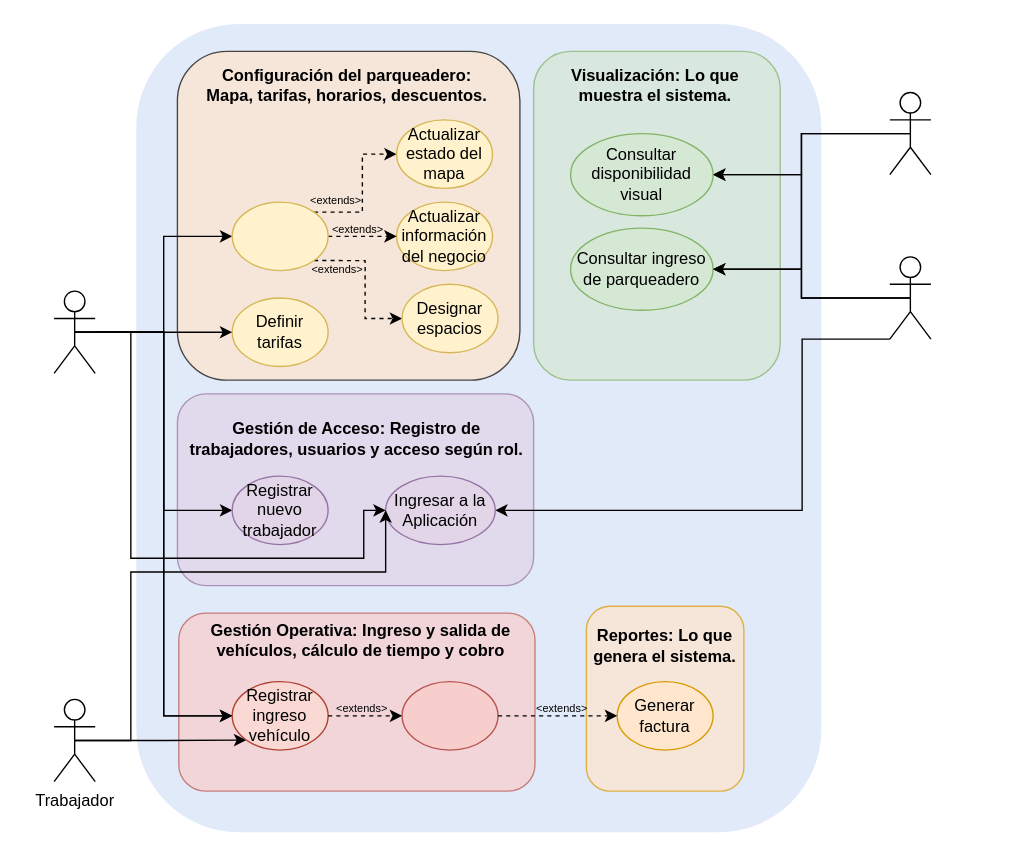
Image size: 1014x855. Some labels were removed from this diagram. The shapes that lost their labels are listed below. From the top down, each one's centre as x and y in pixels, then its label:
At [909,133]: "Cliente No Registrado".
At [279,236]: "Generar matriz de espacios".
At [909,297]: "Cliente Registrado".
At [74,331]: "Administrador".
At [449,715]: "Registrar salida vehículo".
